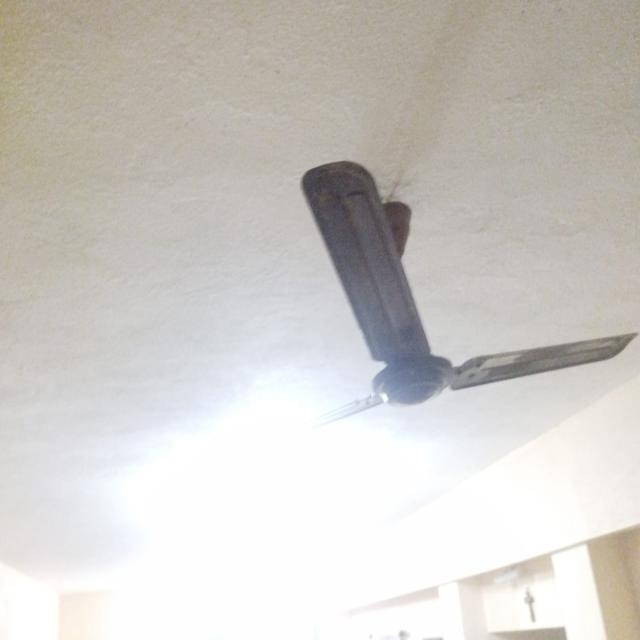fan_off: (302, 164, 640, 442)
